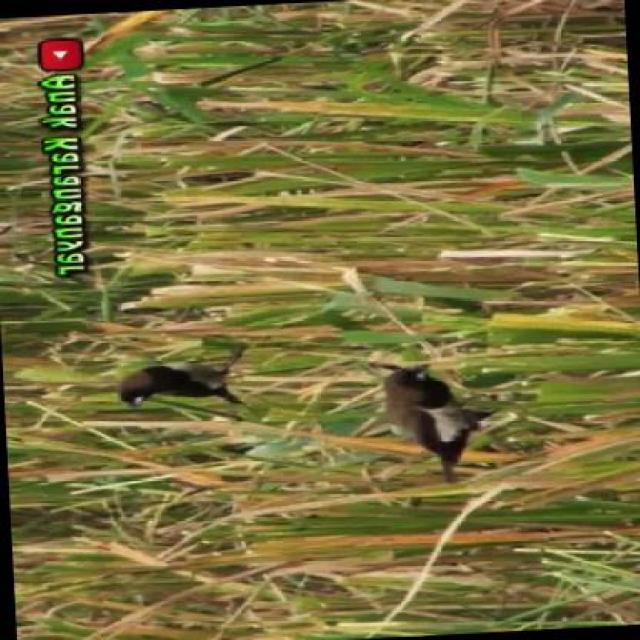Bird: (357, 342, 540, 485), (101, 325, 266, 432)
